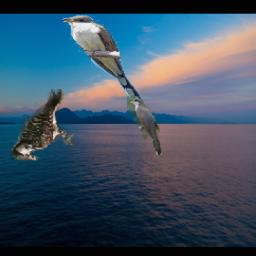Cuckoo: (62, 15, 143, 104), (128, 97, 163, 157)
Woodpecker: (11, 89, 74, 160)
